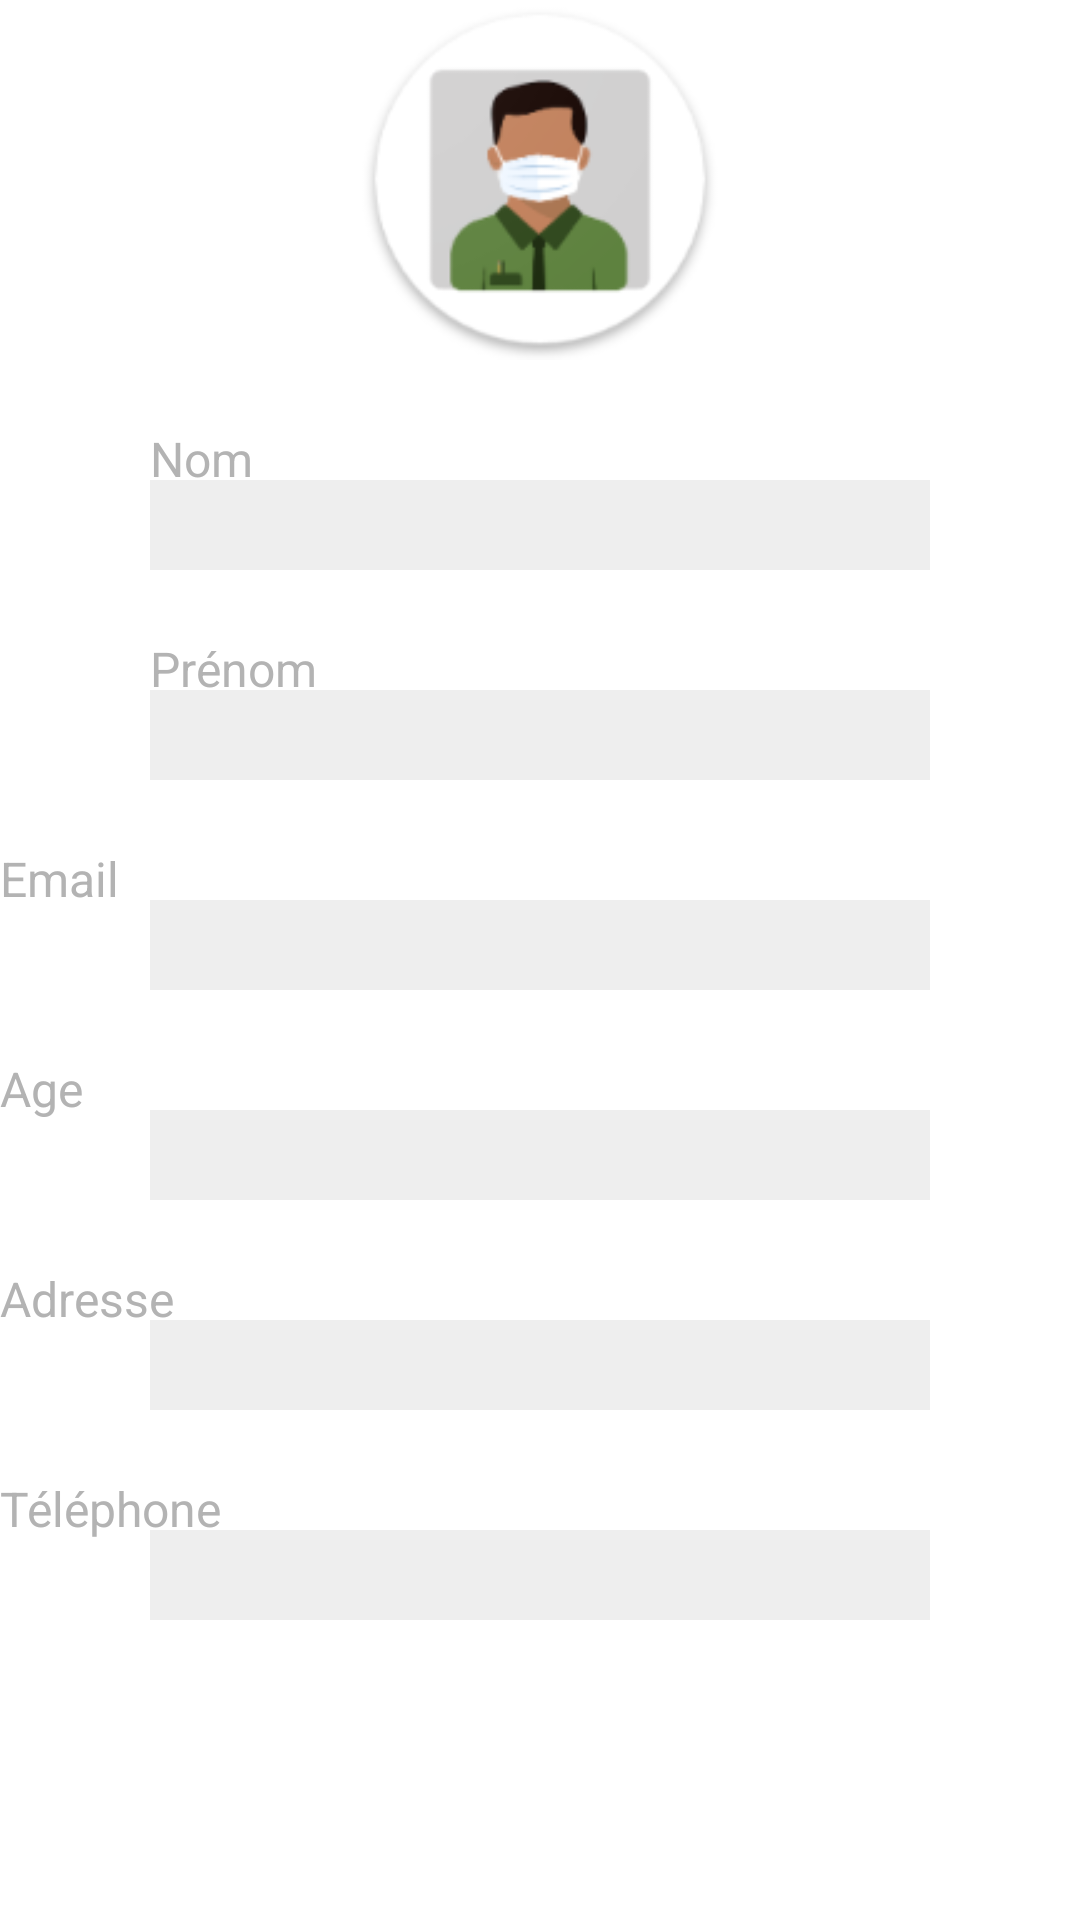

Where icons sit on this 1080w x 1920h app screen, as [x1,y1,x2,y2]:
covid: [373,70,708,353]
